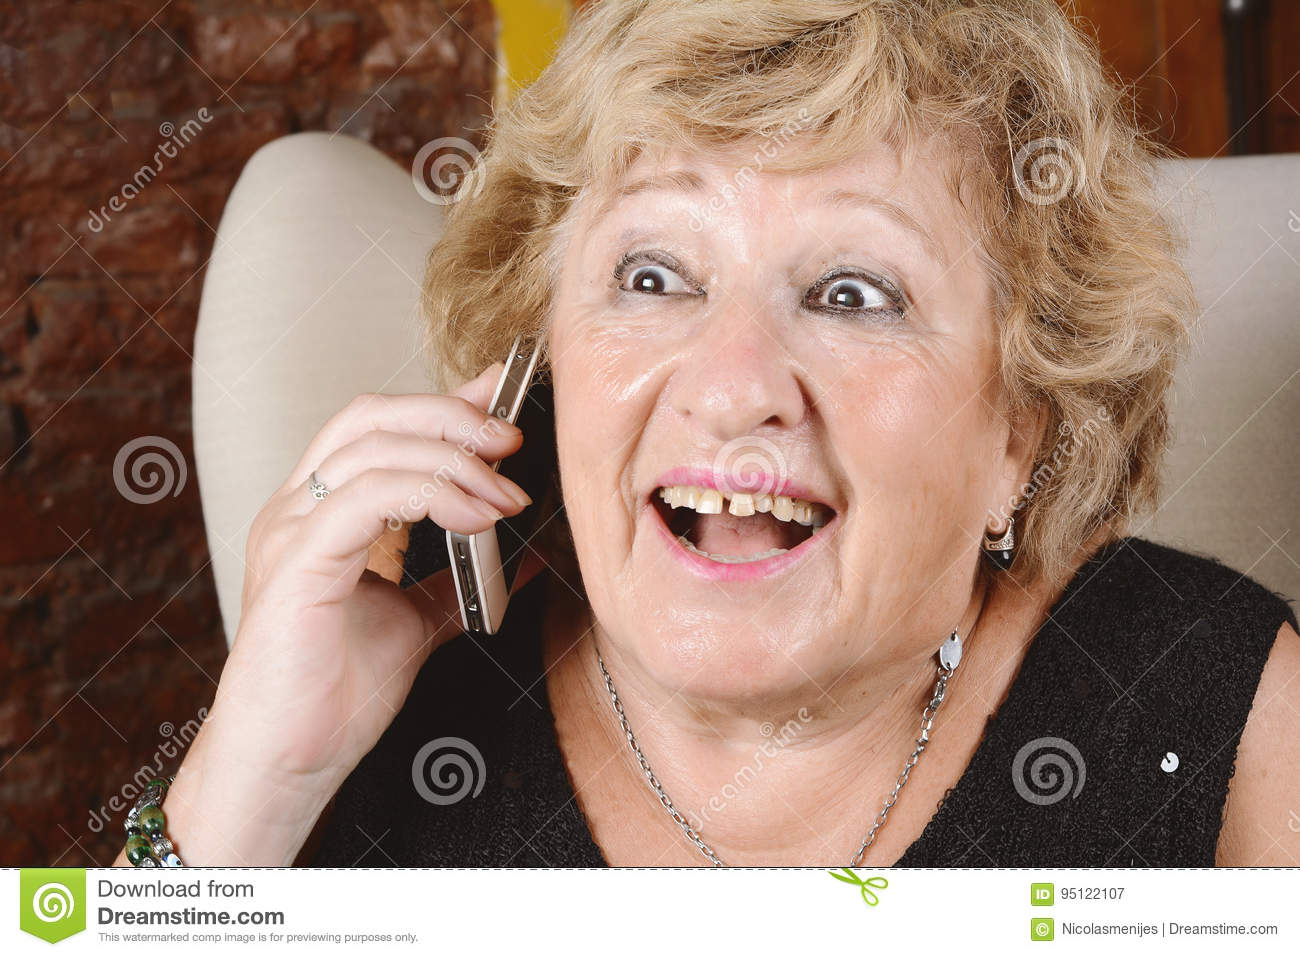phone: (446, 295, 559, 639)
talk: (228, 155, 978, 758)
